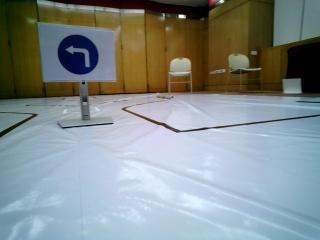left: (37, 22, 117, 81)
